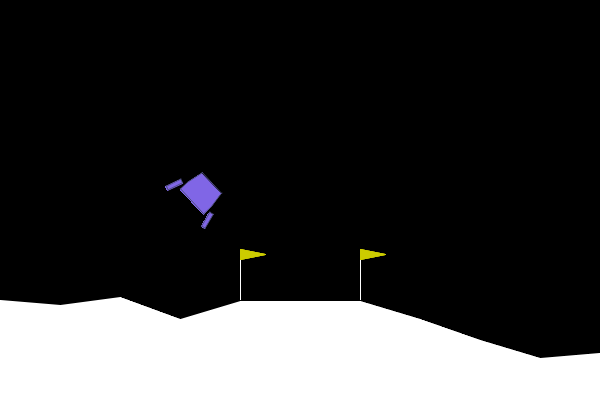lander: (163, 160, 233, 231)
